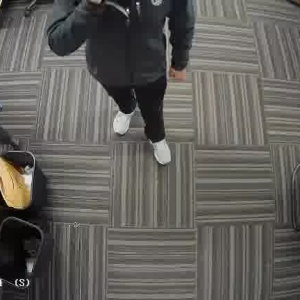person: (55, 0, 185, 176)
